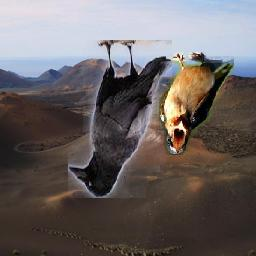Crow: (68, 40, 172, 198)
Swallow: (160, 53, 235, 156)
